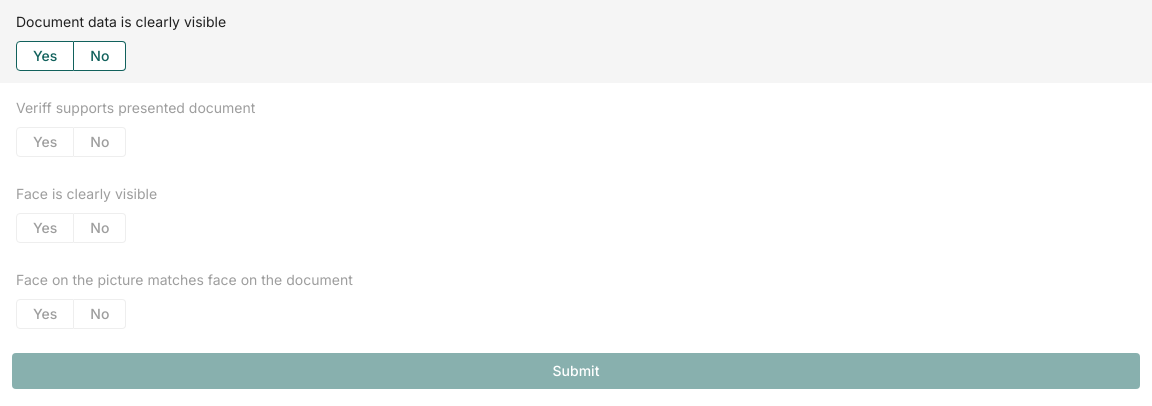
Test: Verification view › should have submit button enabled when "no" is clicked
The width and height of the screenshot is (1152, 406).
Click the button "No" below "Document data is clearly visible": (100,56) [74,41,126,71]
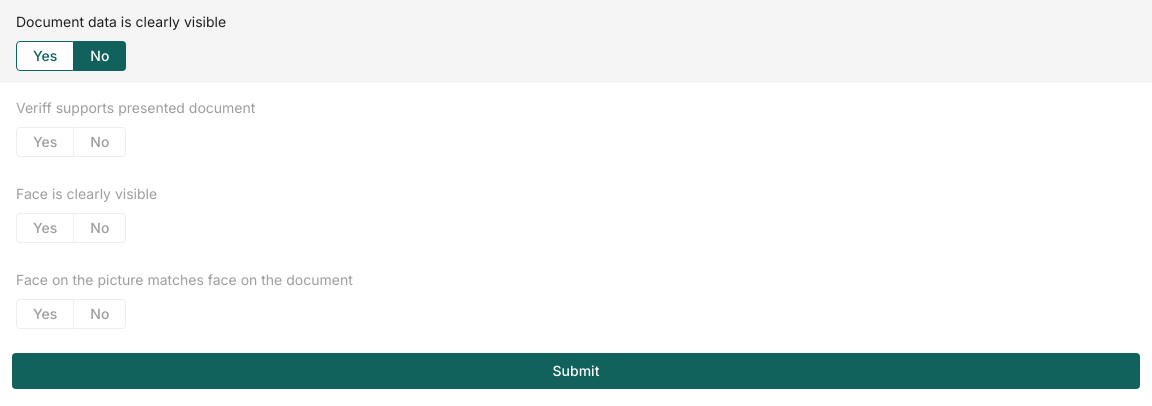
Check: the button "Submit" is enabled, box [12,353,1140,389]
